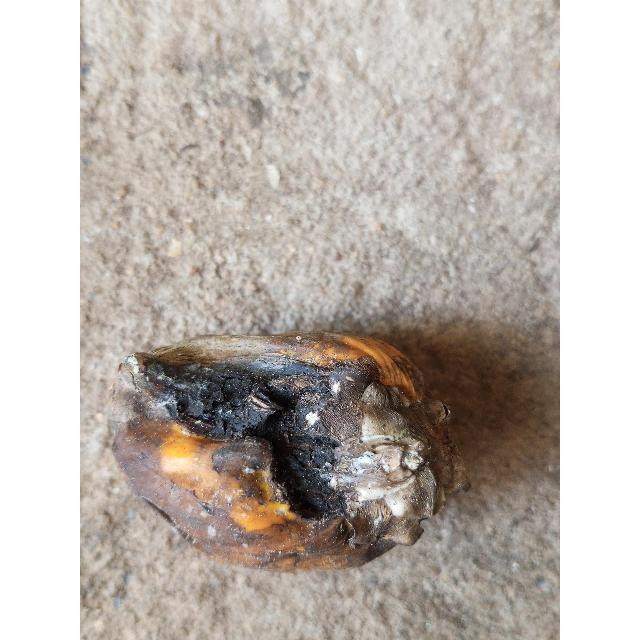damaged: (112, 332, 468, 576)
